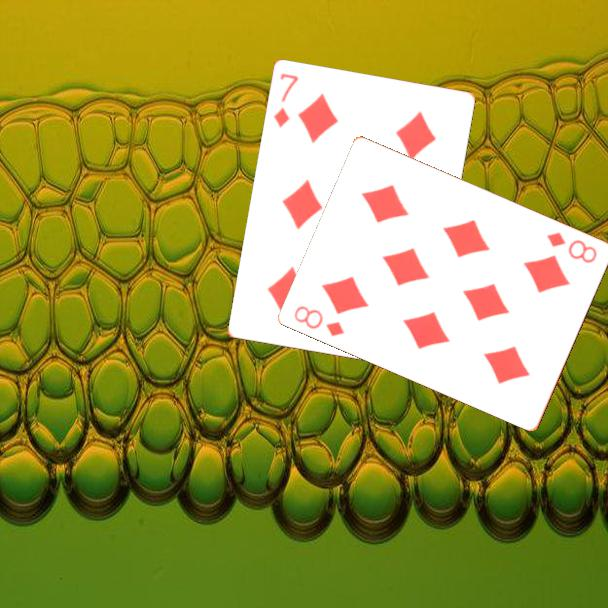d07: (270, 70, 302, 131)
d08: (544, 228, 601, 266), (291, 302, 348, 339)
